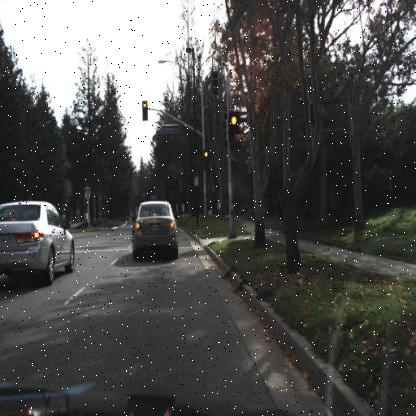car: (1, 196, 75, 290), (130, 199, 179, 263)
trafficLight-Red: (228, 112, 238, 138), (140, 98, 148, 122), (203, 147, 210, 170)
